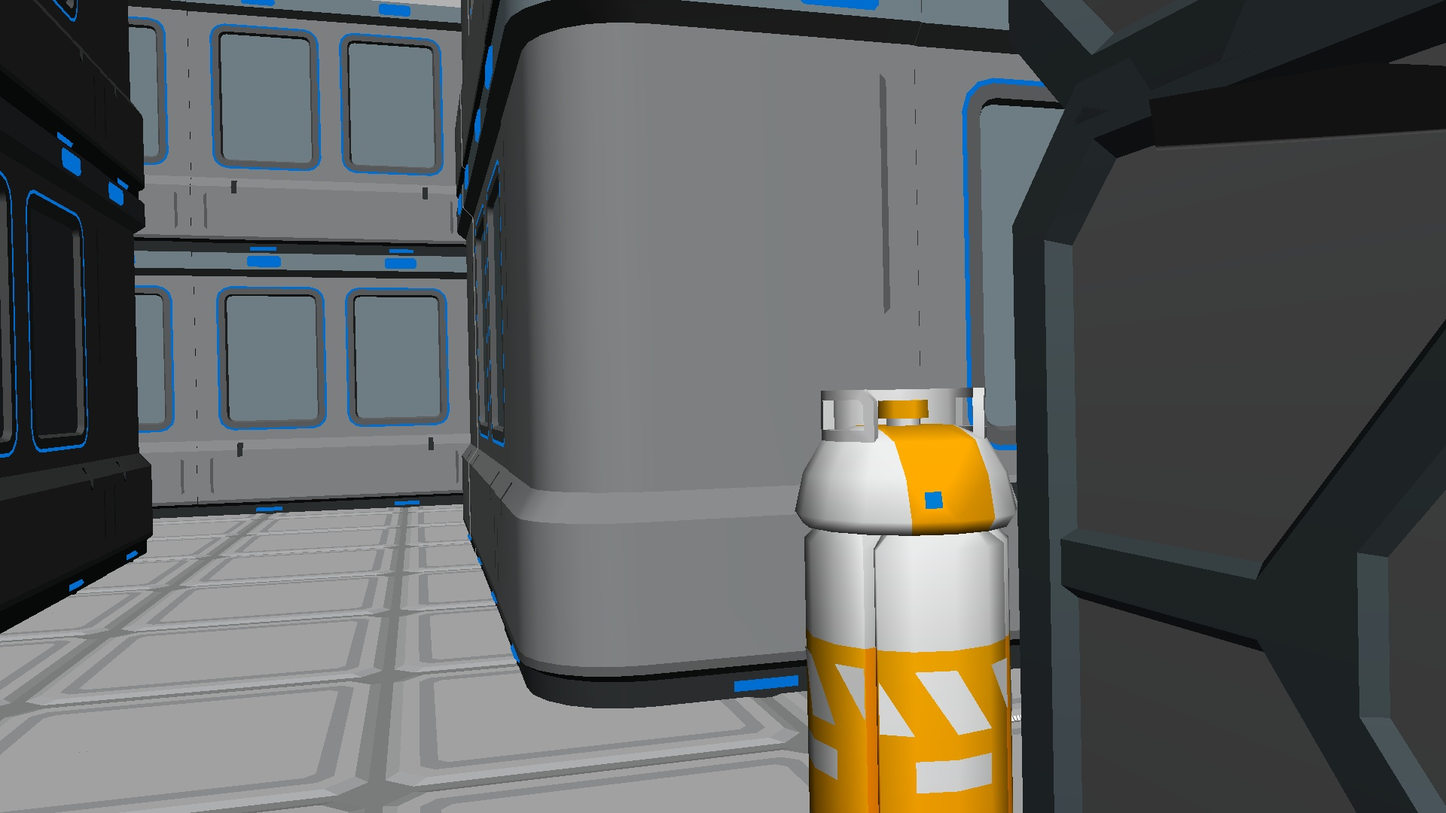yellow barrel: (795, 387, 1017, 813)
